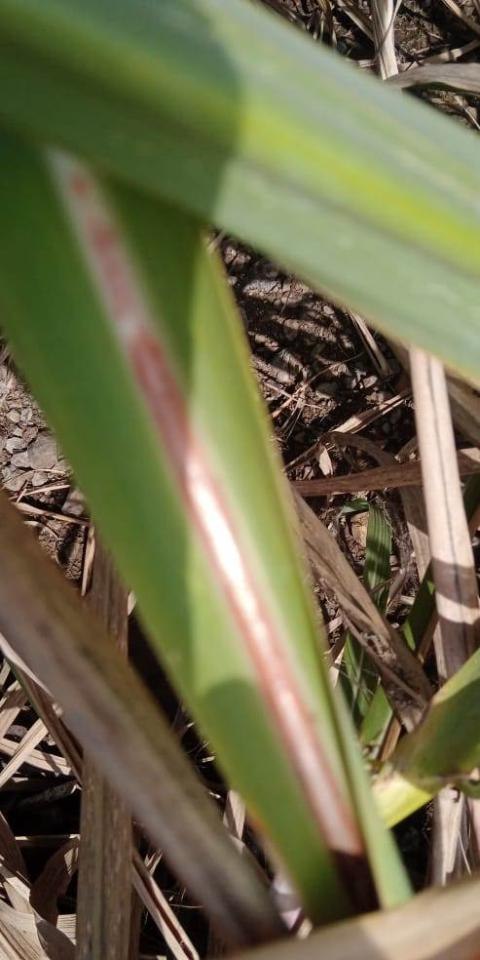RedRot: (64, 166, 379, 917)
